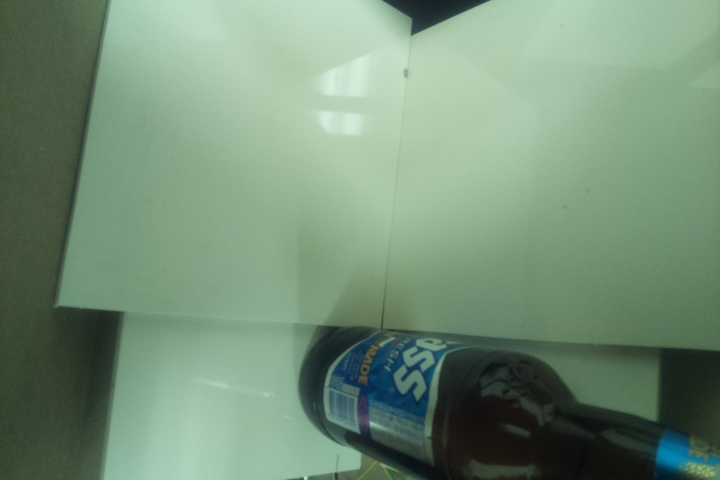makju: (298, 323, 720, 479)
